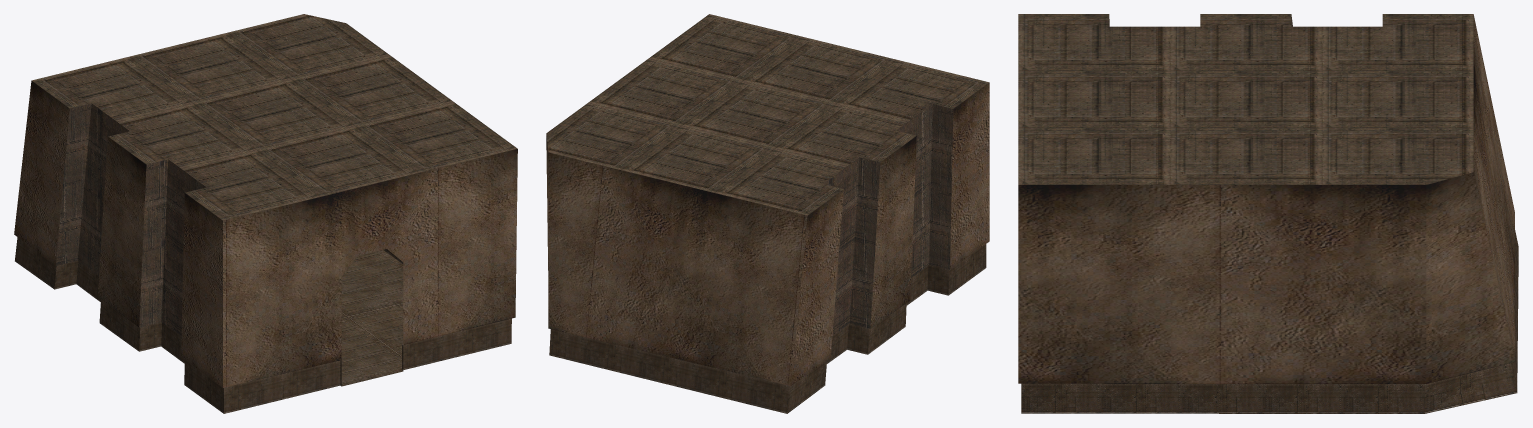
Rendered from thm_tato_fort_tusken_r20_mesh_r20.fbx.
3 views of the same model, side by side, from view 1: azimuth 30°, elevation 25°; view 2: azimuth 150°, elevation 25°; view 3: azimuth 270°, elevation 25° (orthographic). The views are drawn at different scales.
Visible parts, largest first — view 1: mesh_node; view 2: mesh_node; view 3: mesh_node.
Part boxes in pixels (bbox=[...]): mesh_node: bbox=[14, 14, 517, 413]; mesh_node: bbox=[546, 14, 989, 413]; mesh_node: bbox=[1018, 14, 1518, 413].
Size of the model in its own units: 7.13 by 4.51 by 8.81.
